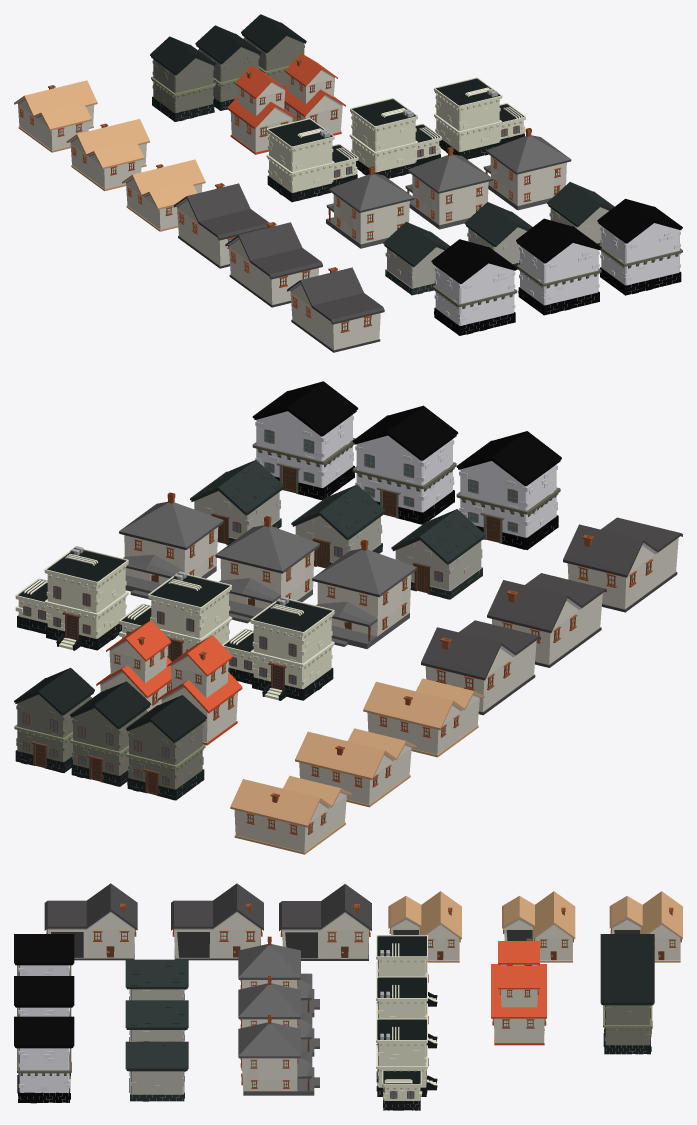
Rendered from Residential.fbx.
3 renders of one model, top to bottom at view 1: azimuth 30°, elevation 25°; view 2: azimuth 150°, elevation 25°; view 3: azimuth 270°, elevation 25°, orthographic. The views are drawn at different scales.
Visible parts, largest first — view 1: 2Story_GableRoof_Mat_Cube.004, 2Story_GableRoof_Mat_Cube.005, 2Story_GableRoof_Mat_Cube.006, House4_Cube.001, 2Story_Sidehouse_Mat_Cube.003, 2Story_Sidehouse_Mat_Cube.001, 2Story_Sidehouse_Mat_Cube.002, House4_Cube.018, House1_Cube.001, House1_Cube.002, House1_Cube.011, House4_Cube.003 (+11 smaller); view 2: 2Story_GableRoof_Mat_Cube.004, 2Story_GableRoof_Mat_Cube.006, 2Story_GableRoof_Mat_Cube.005, 2Story_Sidehouse_Mat_Cube.001, 2Story_Sidehouse_Mat_Cube.003, House4_Cube.001, House1_Cube.002, House4_Cube.003, House1_Cube.001, House4_Cube.018, House1_Cube.011, House5_Cube.002 (+11 smaller); view 3: House4_Cube.018, House4_Cube.003, House4_Cube.001, House1_Cube.001, 2Story_GableRoof_Mat_Cube.006, 2Story_Sidehouse_Mat_Cube.001, House3_Cube.001, 2Story_GableRoof_Mat_Cube.003, House5_Cube.001, 1Story_GableRoof_Mat_Cube.002, House5_Cube.000, House5_Cube.002 (+11 smaller).
Part boxes in pixels (x1=…): 2Story_GableRoof_Mat_Cube.004: x1=431, y1=239, x2=517, y2=335; 2Story_GableRoof_Mat_Cube.005: x1=516, y1=218, x2=601, y2=315; 2Story_GableRoof_Mat_Cube.006: x1=597, y1=198, x2=682, y2=295; House4_Cube.001: x1=287, y1=267, x2=384, y2=352; 2Story_Sidehouse_Mat_Cube.003: x1=266, y1=118, x2=358, y2=202; 2Story_Sidehouse_Mat_Cube.001: x1=434, y1=77, x2=525, y2=159; 2Story_Sidehouse_Mat_Cube.002: x1=349, y1=98, x2=441, y2=178; House4_Cube.018: x1=225, y1=222, x2=322, y2=307; House1_Cube.001: x1=483, y1=128, x2=571, y2=210; House1_Cube.002: x1=326, y1=166, x2=414, y2=248; House1_Cube.011: x1=405, y1=147, x2=492, y2=229; House4_Cube.003: x1=173, y1=183, x2=269, y2=268; 2Story_GableRoof_Mat_Cube.004: x1=456, y1=431, x2=561, y2=550; 2Story_GableRoof_Mat_Cube.006: x1=252, y1=381, x2=358, y2=500; 2Story_GableRoof_Mat_Cube.005: x1=352, y1=405, x2=458, y2=524; 2Story_Sidehouse_Mat_Cube.001: x1=15, y1=546, x2=128, y2=650; 2Story_Sidehouse_Mat_Cube.003: x1=222, y1=596, x2=334, y2=700; House4_Cube.001: x1=563, y1=517, x2=682, y2=612; House1_Cube.002: x1=312, y1=539, x2=416, y2=648; House4_Cube.003: x1=421, y1=620, x2=540, y2=715; House1_Cube.001: x1=119, y1=492, x2=223, y2=599; House4_Cube.018: x1=487, y1=573, x2=606, y2=667; House1_Cube.011: x1=215, y1=516, x2=319, y2=623; House5_Cube.002: x1=230, y1=775, x2=351, y2=854; House4_Cube.018: x1=171, y1=883, x2=263, y2=960; House4_Cube.003: x1=279, y1=884, x2=371, y2=960; House4_Cube.001: x1=44, y1=883, x2=137, y2=960; House1_Cube.001: x1=238, y1=1015, x2=319, y2=1095; 2Story_GableRoof_Mat_Cube.006: x1=14, y1=1016, x2=74, y2=1103; 2Story_Sidehouse_Mat_Cube.001: x1=376, y1=1018, x2=437, y2=1110; House3_Cube.001: x1=491, y1=963, x2=546, y2=1045; 2Story_GableRoof_Mat_Cube.003: x1=600, y1=979, x2=654, y2=1054; House5_Cube.001: x1=502, y1=891, x2=575, y2=962; 1Story_GableRoof_Mat_Cube.002: x1=125, y1=1041, x2=188, y2=1101; House5_Cube.000: x1=388, y1=891, x2=461, y2=962; House5_Cube.002: x1=609, y1=891, x2=682, y2=962.
Size of the model in its own units: 2945 by 569 by 4562.
116 materials, 11 textured.
